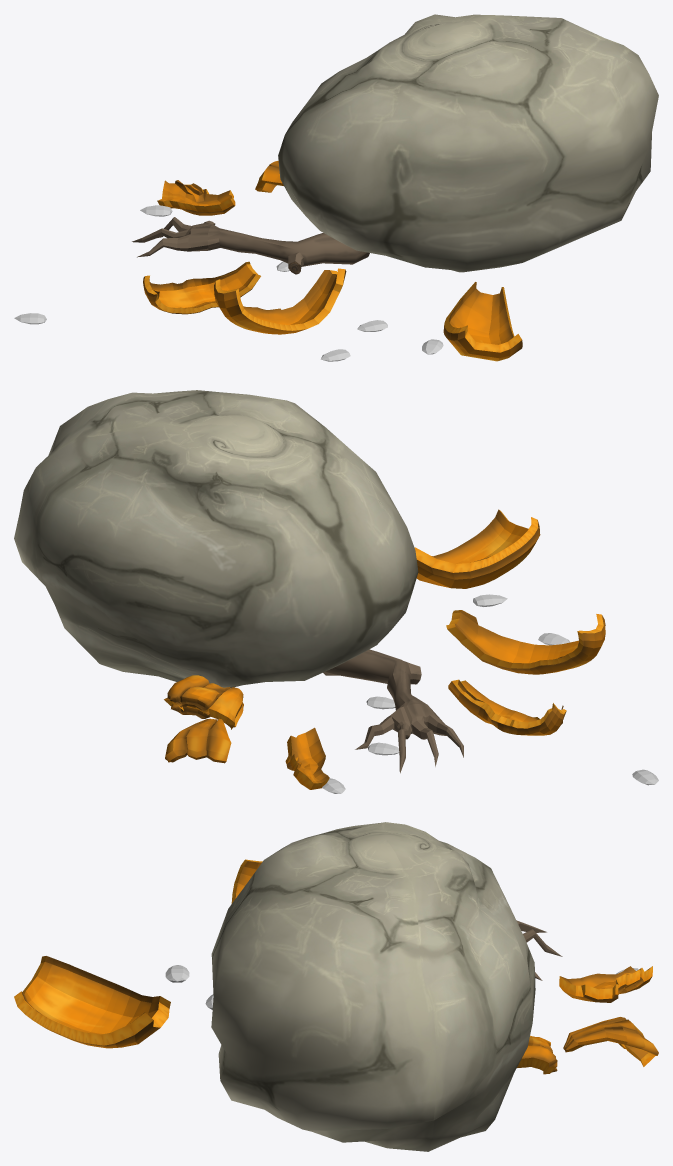
File: Enemy_pumpkinPieces_Mesh.fbx
The picture shows the model from 3 angles, top to bottom: view 1: azimuth 30°, elevation 25°; view 2: azimuth 150°, elevation 25°; view 3: azimuth 270°, elevation 25°; orthographic projection. The views are drawn at different scales.
Visible parts, largest first — view 1: pumpkinminionAnimated5:pSphere1, pCylinder2, polySurface10, polySurface11, polySurface12, polySurface28, polySurface17; view 2: pumpkinminionAnimated5:pSphere1, polySurface10, pCylinder2, polySurface11, polySurface12, polySurface23, polySurface17, polySurface28; view 3: pumpkinminionAnimated5:pSphere1, polySurface10, polySurface17, polySurface28, polySurface23, polySurface11.
Boxes of the visible parts, <box> form: pumpkinminionAnimated5:pSphere1: <box>278,14,658,272</box>; pCylinder2: <box>132,217,369,274</box>; polySurface10: <box>443,282,522,361</box>; polySurface11: <box>214,268,346,334</box>; polySurface12: <box>143,261,260,314</box>; polySurface28: <box>157,180,235,215</box>; polySurface17: <box>255,160,283,192</box>; pumpkinminionAnimated5:pSphere1: <box>14,390,418,687</box>; polySurface10: <box>414,509,540,588</box>; pCylinder2: <box>323,649,463,773</box>; polySurface11: <box>446,610,605,674</box>; polySurface12: <box>448,679,566,735</box>; polySurface23: <box>164,675,243,729</box>; polySurface17: <box>165,718,231,763</box>; polySurface28: <box>285,727,329,789</box>; pumpkinminionAnimated5:pSphere1: <box>211,822,535,1151</box>; polySurface10: <box>14,956,170,1048</box>; polySurface17: <box>563,1017,658,1066</box>; polySurface28: <box>559,966,652,1002</box>; polySurface23: <box>517,1035,557,1074</box>; polySurface11: <box>231,859,262,903</box>.
Bounding box in the file's own units: 63.09 × 21.76 × 49.61.
